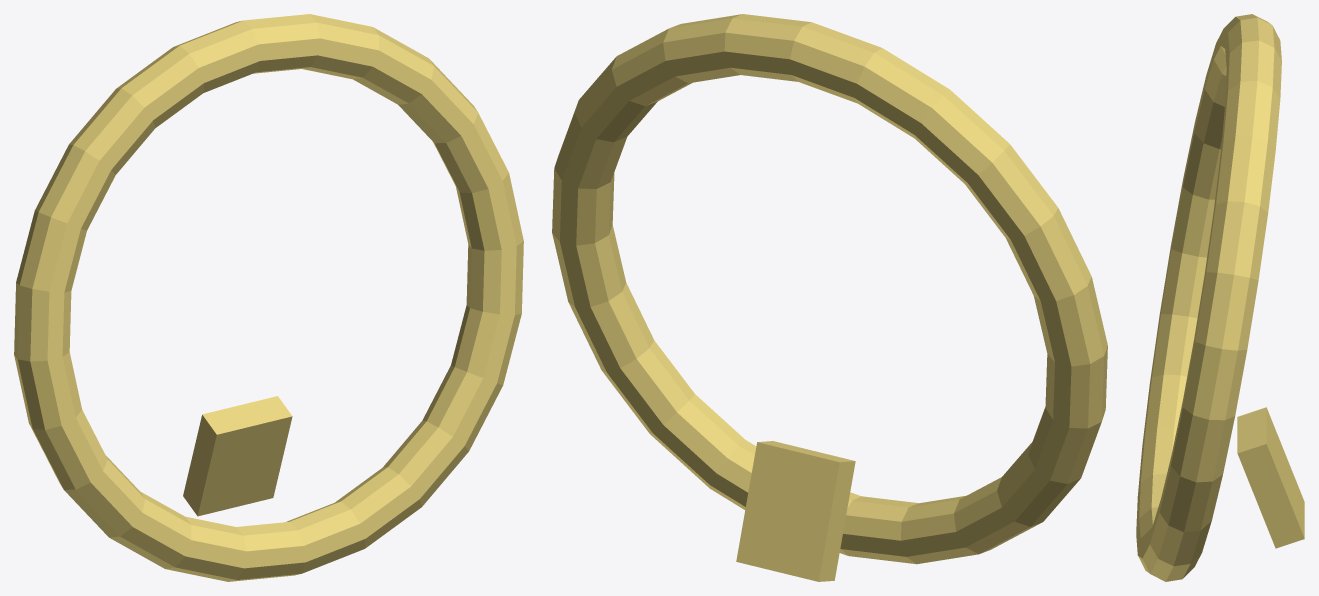
Rendered from GoldChain.glb.
3 views of the same model, side by side, from view 1: azimuth 30°, elevation 25°; view 2: azimuth 150°, elevation 25°; view 3: azimuth 270°, elevation 25° (orthographic). The views are drawn at different scales.
Parts seen in each view (by area): view 1: Chain_Loop, Pendant; view 2: Chain_Loop, Pendant; view 3: Chain_Loop, Pendant.
Boxes of the visible parts, left/top/right/bottom form: Chain_Loop: left=14, top=14, right=523, bottom=581; Pendant: left=183, top=396, right=292, bottom=516; Chain_Loop: left=552, top=14, right=1107, bottom=564; Pendant: left=736, top=441, right=855, bottom=581; Chain_Loop: left=1136, top=14, right=1281, bottom=581; Pendant: left=1237, top=407, right=1304, bottom=548.
Bounding box in the file's own units: 0.93 × 0.9159 × 0.2718.
